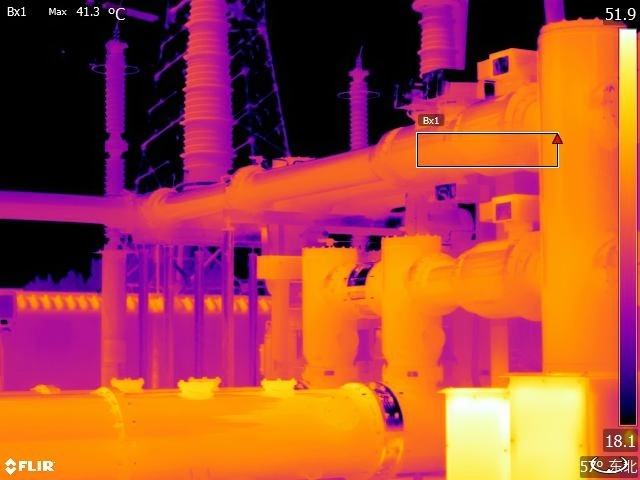lightning arrester: (86, 29, 141, 256), (337, 61, 383, 152)
tube: (174, 1, 242, 183), (410, 1, 461, 73)
